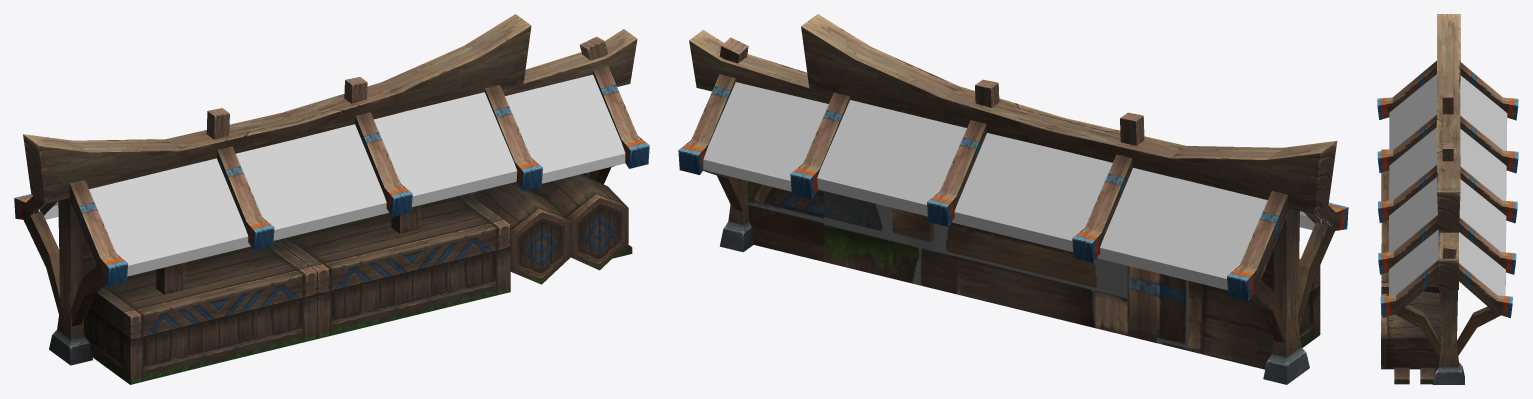
Rendered from fb_xsc_jz_06_b.FBX.
3 renders of one model, left to right at view 1: azimuth 30°, elevation 25°; view 2: azimuth 150°, elevation 25°; view 3: azimuth 270°, elevation 25°, orthographic. The views are drawn at different scales.
Visible parts, largest first — view 1: fb_xsc_jz_06_e, fb_xsc_jz_06_k; view 2: fb_xsc_jz_06_e, fb_xsc_jz_06_k; view 3: fb_xsc_jz_06_e, fb_xsc_jz_06_k.
Part boxes in pixels (bbox=[...]): fb_xsc_jz_06_e: bbox=[14, 14, 649, 384]; fb_xsc_jz_06_k: bbox=[38, 74, 625, 276]; fb_xsc_jz_06_e: bbox=[678, 14, 1348, 384]; fb_xsc_jz_06_k: bbox=[703, 82, 1321, 290]; fb_xsc_jz_06_e: bbox=[1377, 14, 1518, 384]; fb_xsc_jz_06_k: bbox=[1389, 74, 1507, 295].
Size of the model in its own units: 1666 by 596 by 459.
